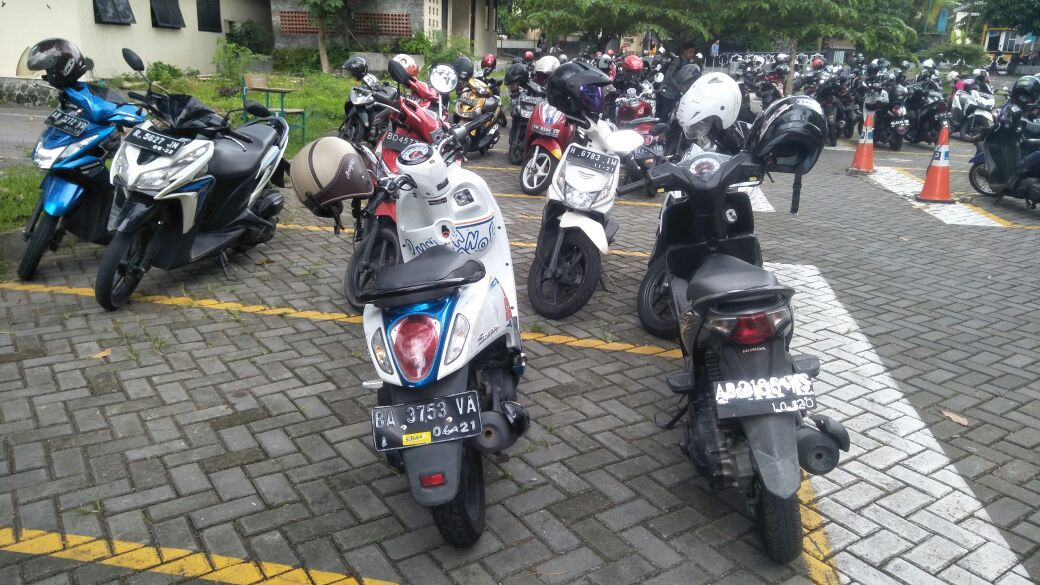plate: (369, 389, 481, 447), (713, 374, 817, 413), (564, 143, 620, 176), (124, 127, 182, 157), (44, 111, 89, 139)
